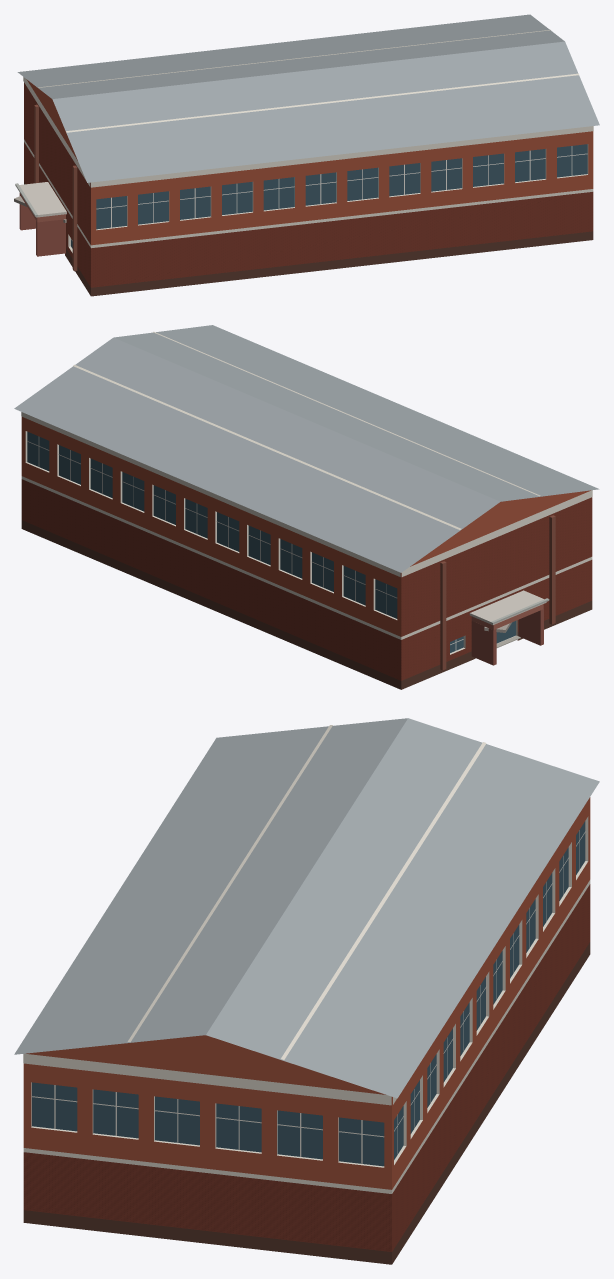
The picture shows the model from 3 angles, top to bottom: view 1: azimuth 30°, elevation 25°; view 2: azimuth 150°, elevation 25°; view 3: azimuth 270°, elevation 25°; orthographic projection. The views are drawn at different scales.
Parts seen in each view (by area): view 1: hall2__roof-metal, hall2__brick, hall2__wall-plaster, hall2__glass, hall2__trim-concrete, hall2__base-stone, hall2__vestibule-side, hall2__vestibule-roof, hall2__frame, hall2__gable-pier; view 2: hall2__roof-metal, hall2__brick, hall2__wall-plaster, hall2__glass, hall2__trim-concrete, hall2__base-stone, hall2__vestibule-side, hall2__gable-pier, hall2__vestibule-roof, hall2__frame; view 3: hall2__roof-metal, hall2__wall-plaster, hall2__brick, hall2__glass, hall2__trim-concrete, hall2__base-stone, hall2__frame.
Boxes of the visible parts, left/top/right/bottom form: hall2__roof-metal: left=17, top=14, right=599, bottom=182; hall2__brick: left=24, top=82, right=593, bottom=287; hall2__wall-plaster: left=26, top=79, right=593, bottom=245; hall2__glass: left=71, top=144, right=587, bottom=248; hall2__trim-concrete: left=23, top=29, right=593, bottom=252; hall2__base-stone: left=24, top=182, right=593, bottom=296; hall2__vestibule-side: left=19, top=195, right=65, bottom=256; hall2__vestibule-roof: left=19, top=182, right=66, bottom=217; hall2__frame: left=70, top=146, right=587, bottom=240; hall2__gable-pier: left=34, top=104, right=77, bottom=271; hall2__roof-metal: left=14, top=325, right=599, bottom=572; hall2__brick: left=21, top=479, right=592, bottom=680; hall2__wall-plaster: left=21, top=417, right=590, bottom=636; hall2__glass: left=27, top=431, right=515, bottom=652; hall2__trim-concrete: left=21, top=331, right=592, bottom=654; hall2__base-stone: left=21, top=520, right=592, bottom=689; hall2__vestibule-side: left=471, top=609, right=543, bottom=665; hall2__gable-pier: left=440, top=515, right=555, bottom=670; hall2__vestibule-roof: left=469, top=590, right=546, bottom=624; hall2__frame: left=27, top=436, right=463, bottom=650; hall2__roof-metal: left=14, top=718, right=599, bottom=1098; hall2__wall-plaster: left=23, top=797, right=590, bottom=1189; hall2__brick: left=23, top=884, right=590, bottom=1251; hall2__glass: left=32, top=821, right=585, bottom=1166; hall2__trim-concrete: left=23, top=725, right=590, bottom=1193; hall2__base-stone: left=23, top=942, right=590, bottom=1264; hall2__frame: left=32, top=830, right=585, bottom=1163.
Bounding box in the file's own units: 54.91 × 14.99 × 37.57.
14 materials, 1 textured.
